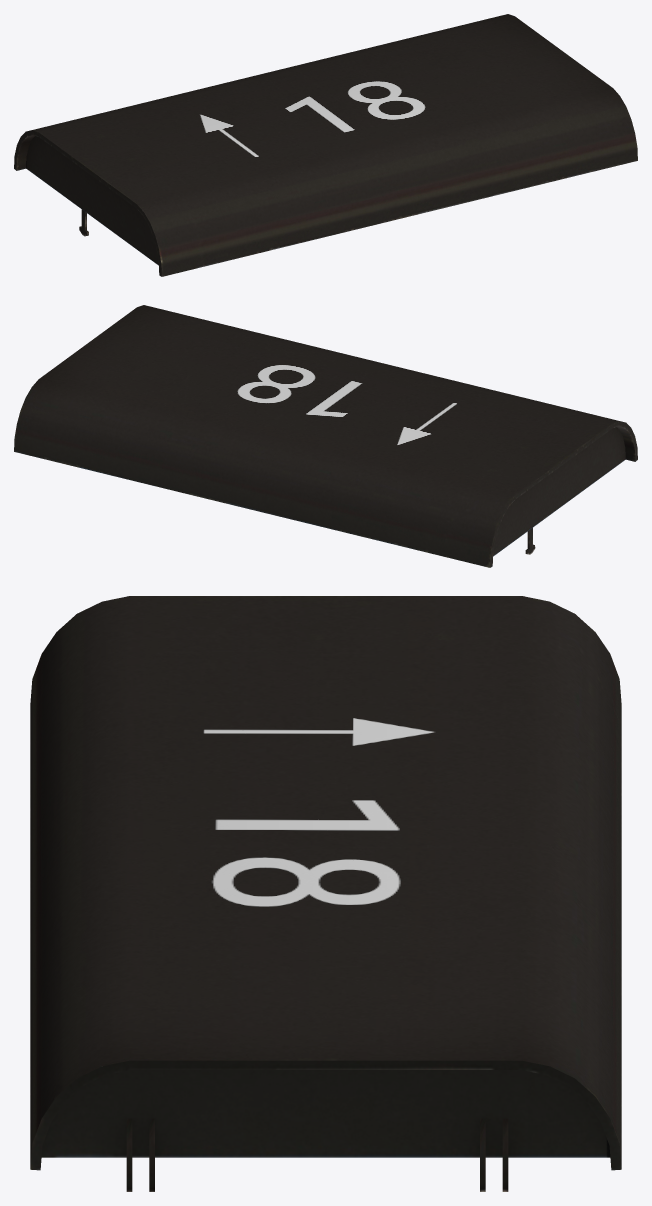
The model's file is stPrivodRoof.fbx.
3 views of the same model, one above another, from view 1: azimuth 30°, elevation 25°; view 2: azimuth 150°, elevation 25°; view 3: azimuth 270°, elevation 25° (orthographic). The views are drawn at different scales.
Visible parts, largest first — view 1: stPrivodRoof; view 2: stPrivodRoof; view 3: stPrivodRoof.
Part boxes in pixels (box(x1,y1,x2,y2)): stPrivodRoof: box(14, 14, 637, 276); stPrivodRoof: box(14, 305, 637, 567); stPrivodRoof: box(30, 596, 621, 1191).
Size of the model in its own units: 0.7481 by 0.1264 by 0.402.
